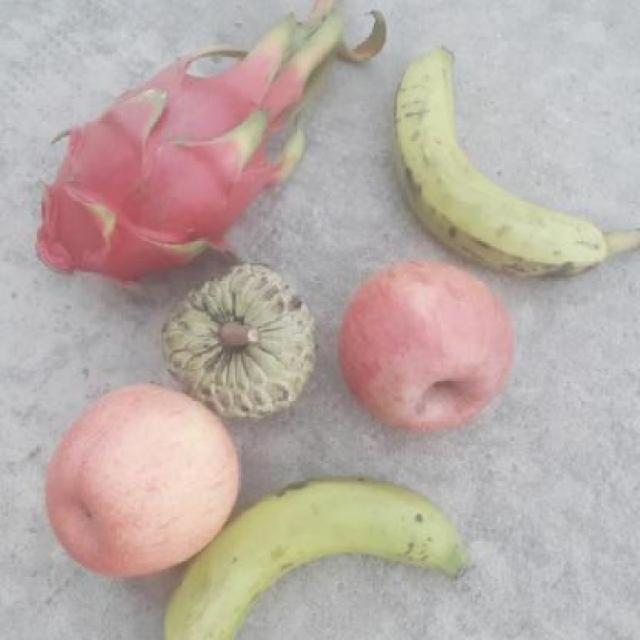apple: (39, 386, 239, 576), (336, 258, 524, 438)
banana: (159, 469, 473, 640), (390, 38, 612, 278)
dragon fruit: (30, 67, 267, 281)
sugar apple: (162, 256, 321, 429)
